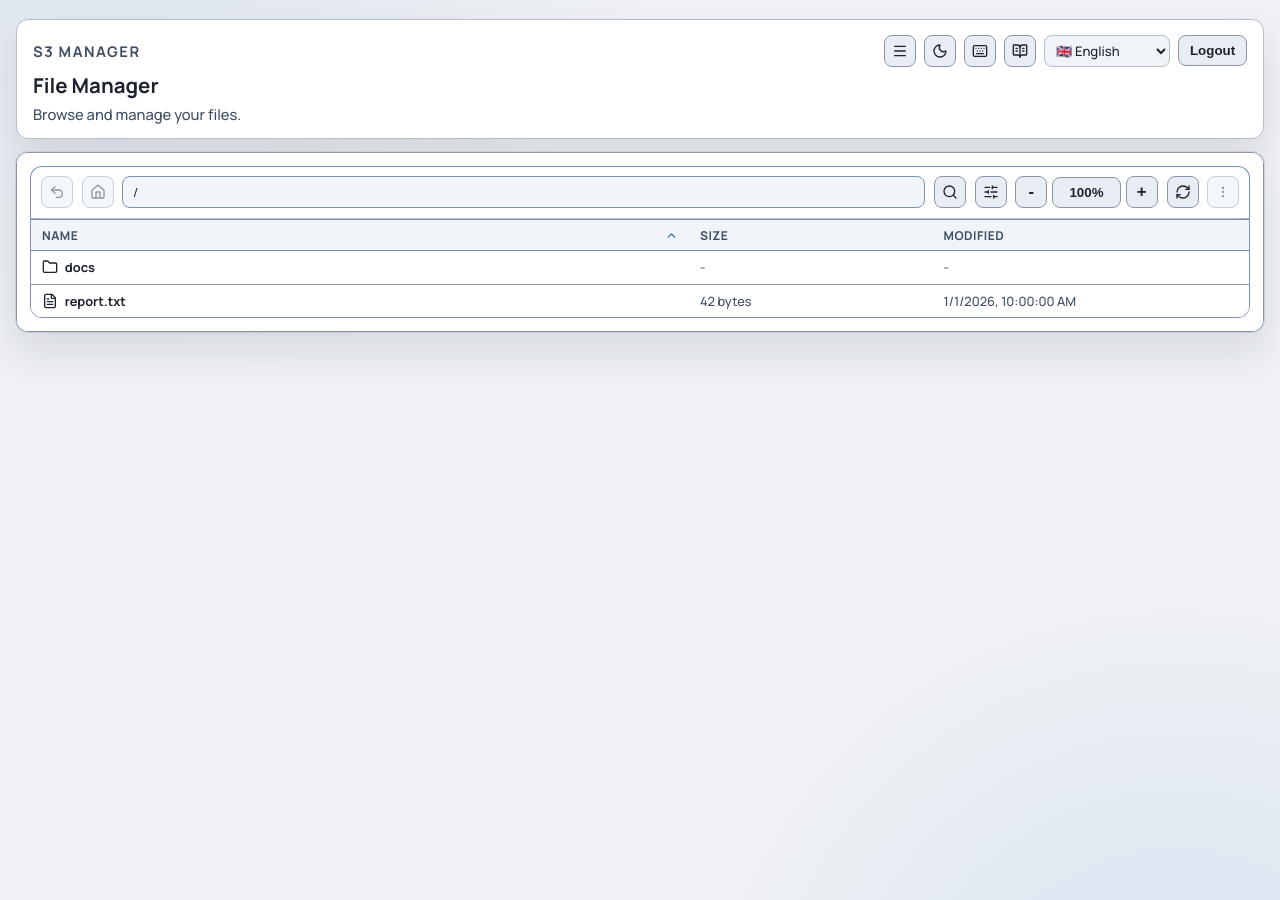
Test: Browser parity interactions › shows read-only file properties editor for non-elevated users
This screenshot has width=1280, height=900.
Right-click the text "report.txt" at x=95, y=301, box x1=65 y1=292 x2=126 y2=310
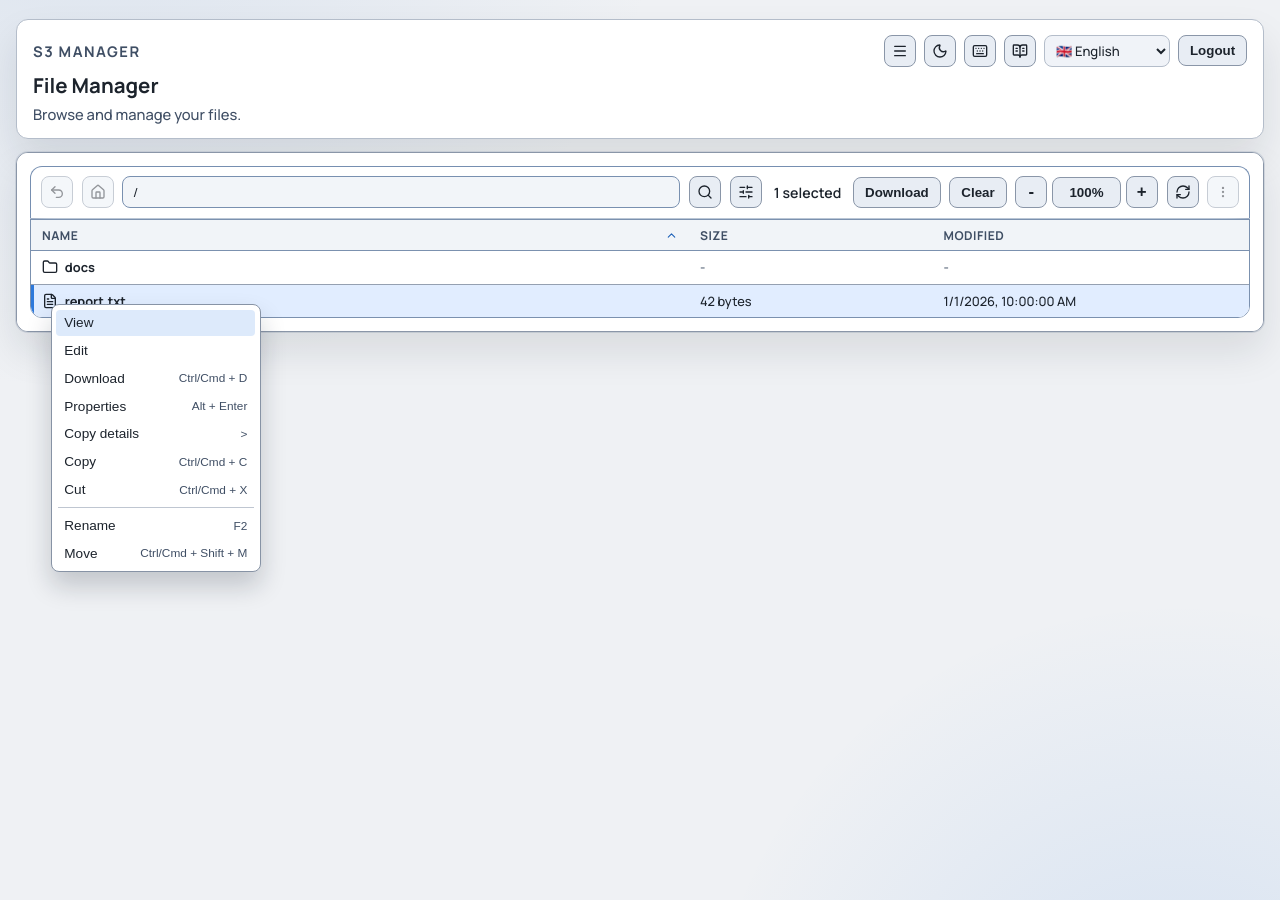
Click the text "Properties" at x=95, y=406, box x1=64 y1=399 x2=126 y2=414
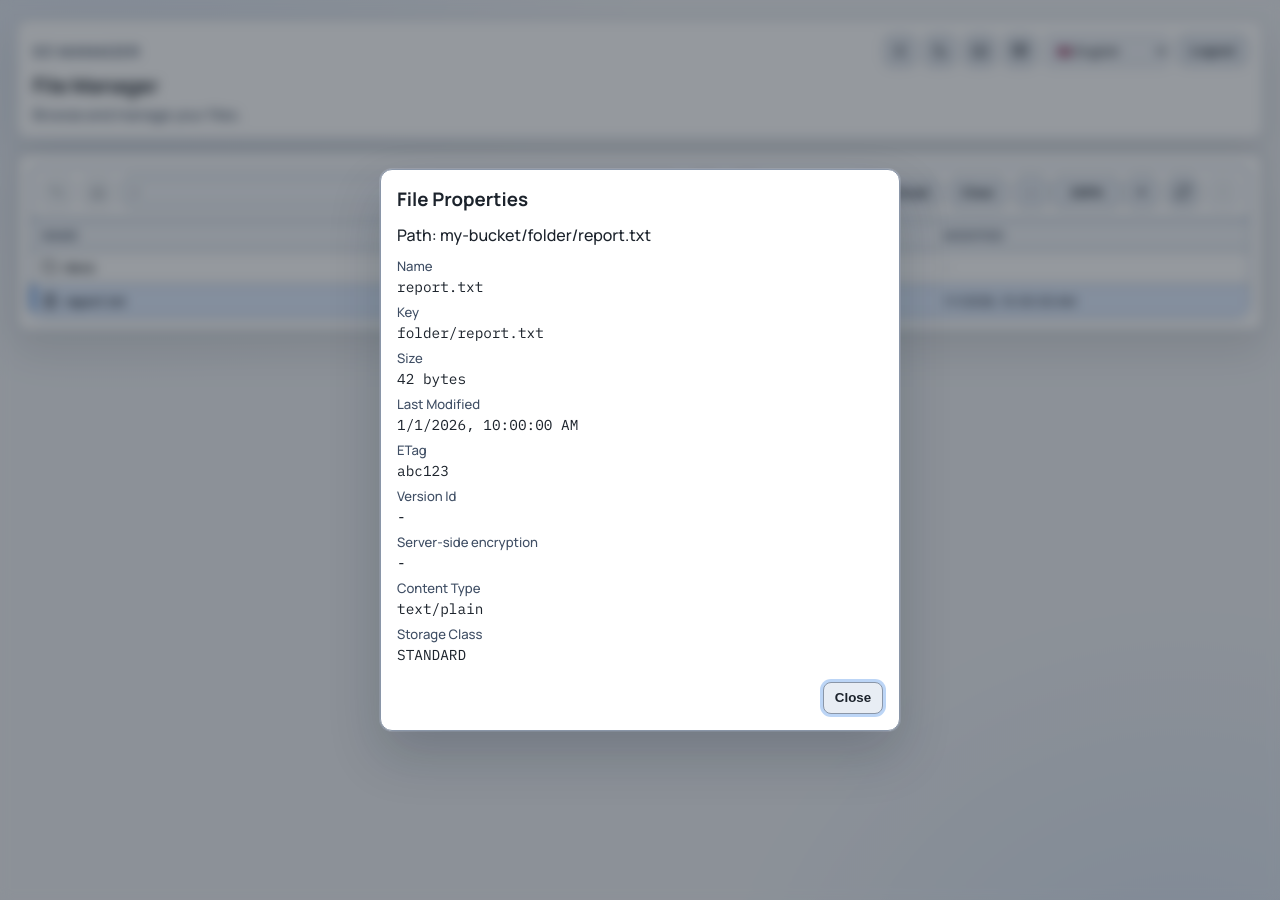
Now the heading "File Properties" is shown, box x1=397 y1=186 x2=528 y2=212
